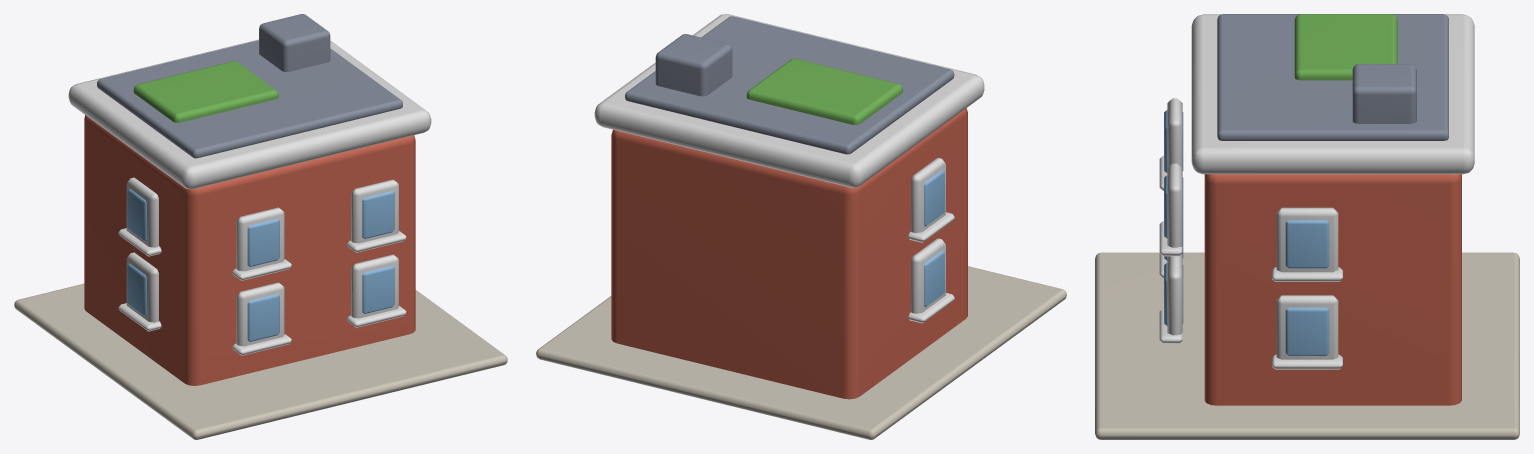
3 renders of one model, left to right at view 1: azimuth 30°, elevation 25°; view 2: azimuth 150°, elevation 25°; view 3: azimuth 270°, elevation 25°, orthographic. The views are drawn at different scales.
Visible parts, largest first — view 1: Cube; view 2: Cube; view 3: Cube.
Boxes of the visible parts, left/top/right/bottom form: Cube: left=14, top=14, right=507, bottom=439; Cube: left=536, top=14, right=1066, bottom=439; Cube: left=1095, top=14, right=1519, bottom=439.
Bounding box in the file's own units: 0.66 × 0.55 × 0.66.
